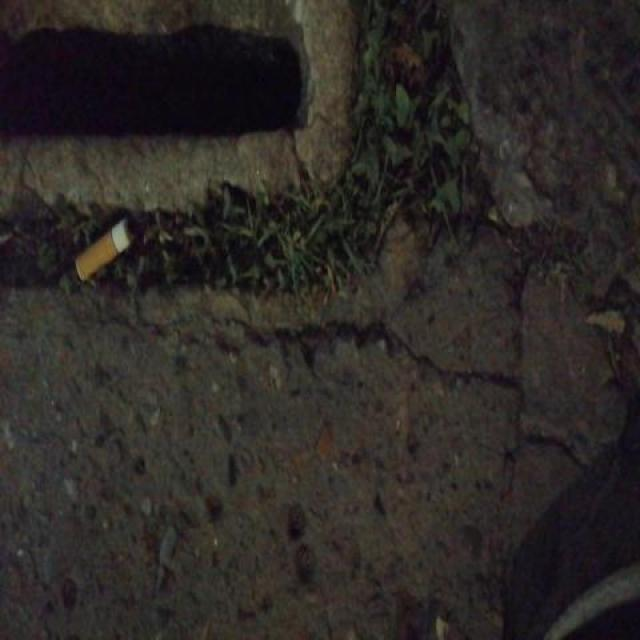non-organic waste: (70, 214, 138, 285)
